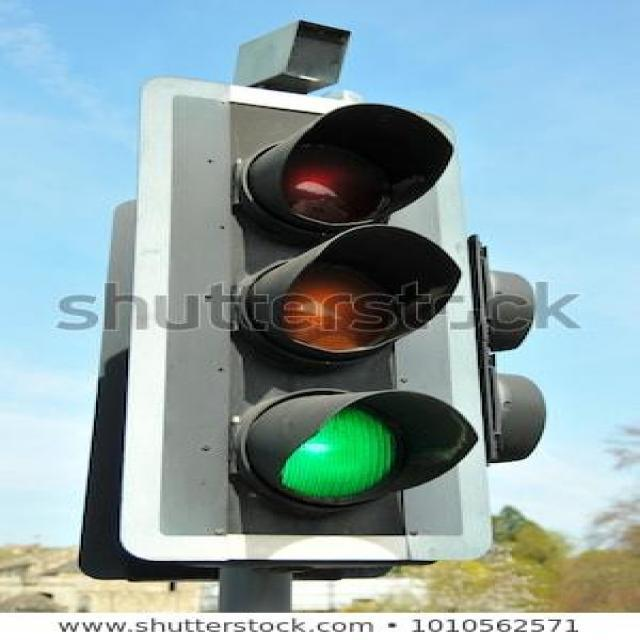green_light: (218, 102, 461, 544)
